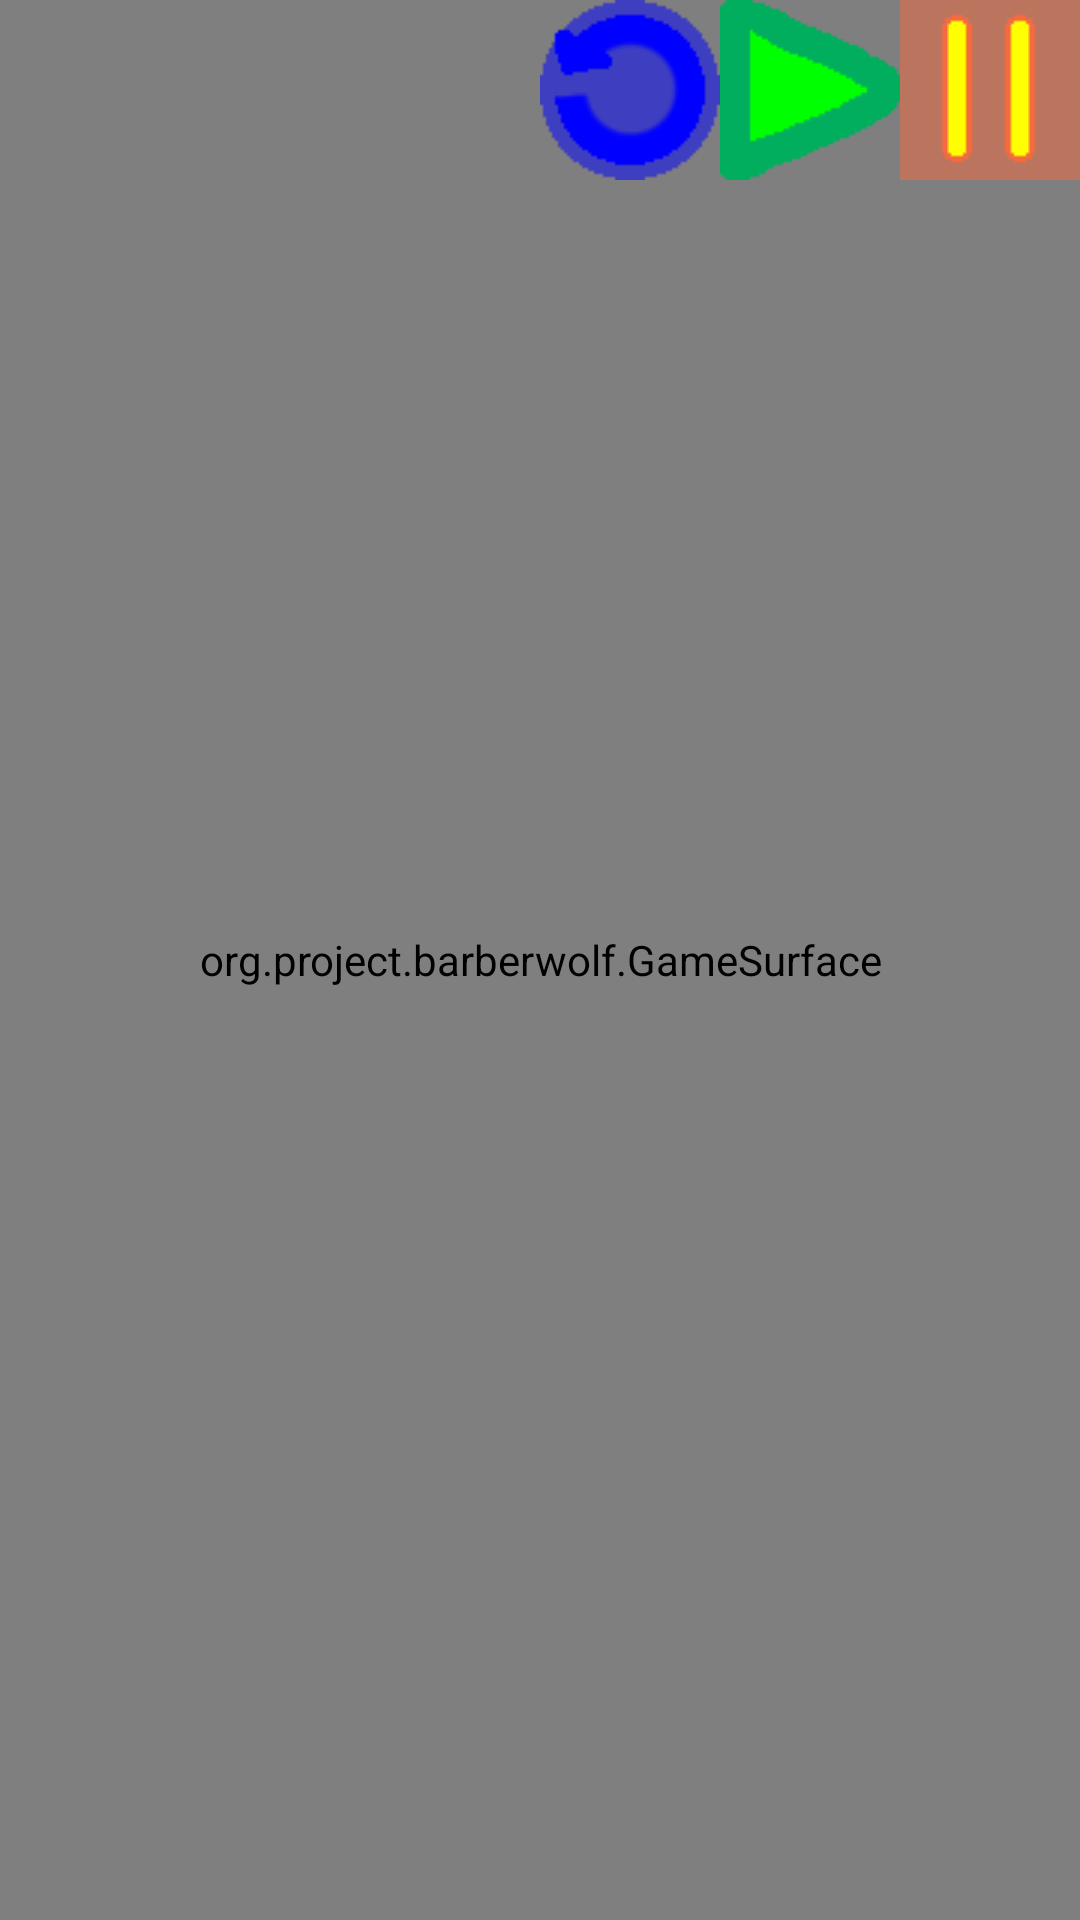

Icon click points for this 1080 × 1920 phone screenshot, format point (x, y):
pause: point (990, 90)
play: point (810, 90)
restart: point (630, 90)
